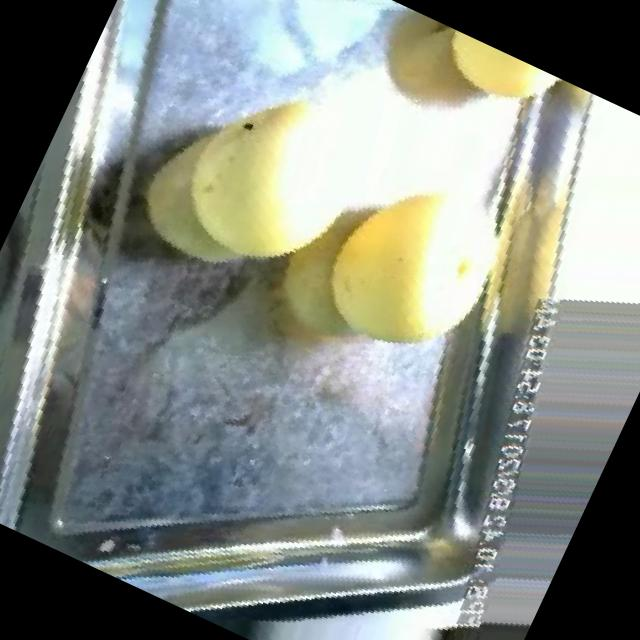Fruit: (94, 22, 374, 324), (278, 128, 514, 390), (328, 0, 568, 182), (394, 14, 590, 152)
